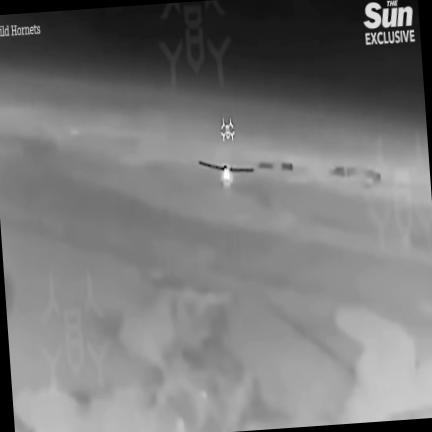Shahed: (199, 160, 254, 188)
